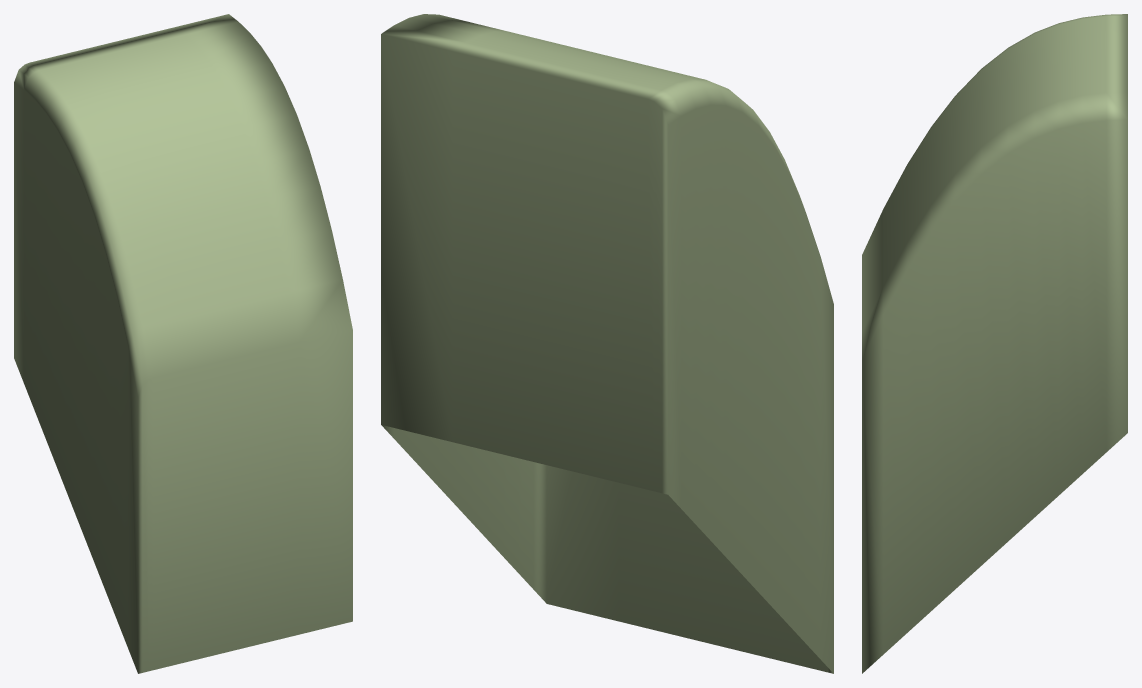
The model's file is ground-ramp-l-30.glb.
The picture shows the model from 3 angles, left to right: view 1: azimuth 30°, elevation 25°; view 2: azimuth 150°, elevation 25°; view 3: azimuth 270°, elevation 25°; orthographic projection. The views are drawn at different scales.
Parts seen in each view (by area): view 1: ground-ramp-l-30; view 2: ground-ramp-l-30; view 3: ground-ramp-l-30.
Boxes of the visible parts, box(x1,y1,x2,y2) form: ground-ramp-l-30: box(14, 14, 352, 673); ground-ramp-l-30: box(381, 14, 833, 673); ground-ramp-l-30: box(862, 14, 1127, 673).
Size of the model in its own units: 1 by 2.3 by 1.
